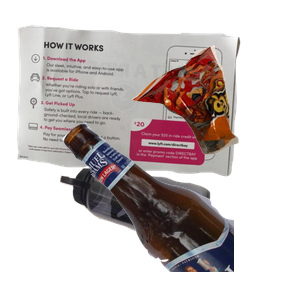glass: (60, 120, 300, 300)
paper: (14, 22, 247, 191)
plastic: (58, 162, 261, 300)
trash: (130, 43, 300, 190)
